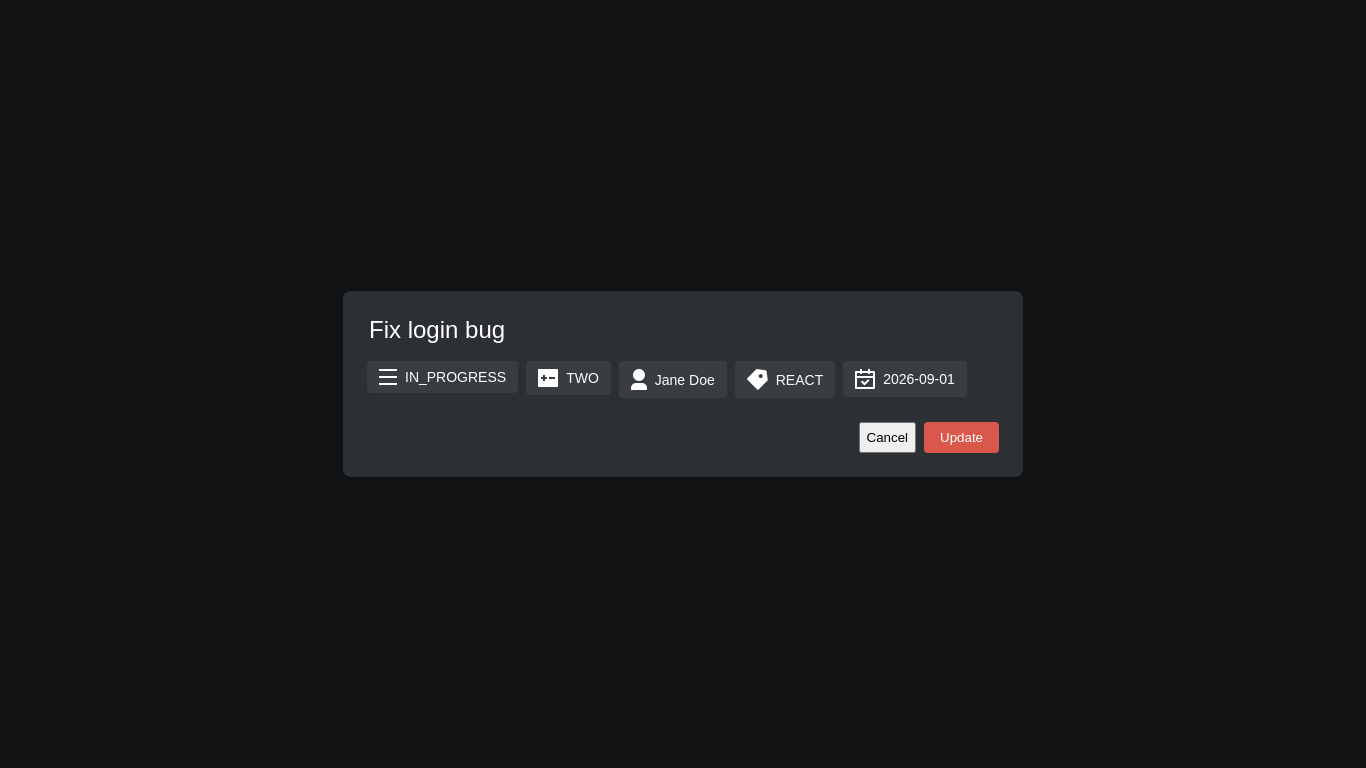
it: TaskModal › shows a success toast and closes the modal when update succeeds
The image size is (1366, 768).
Click the button "Update": (962,438) [924,422,999,453]
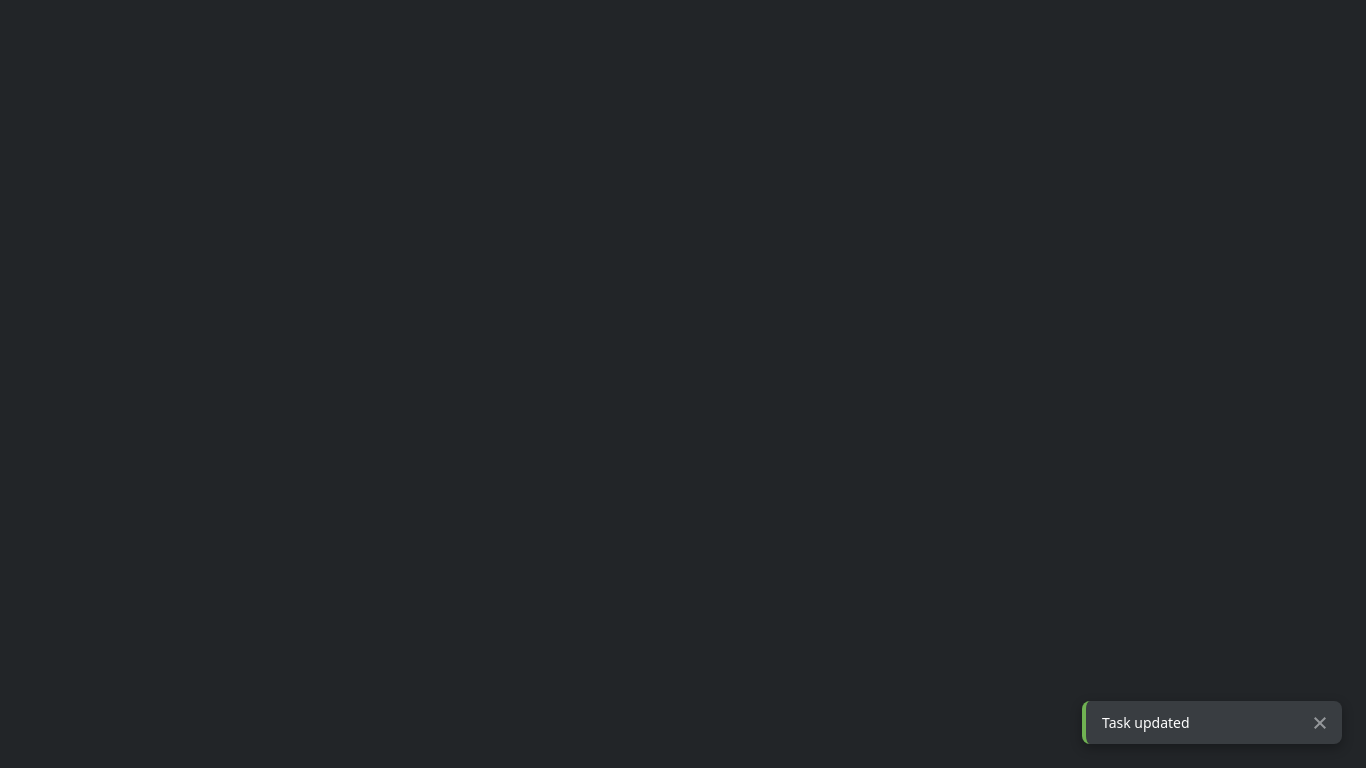
Expected: the message reads "Task updated", [1102,713,1190,732]
